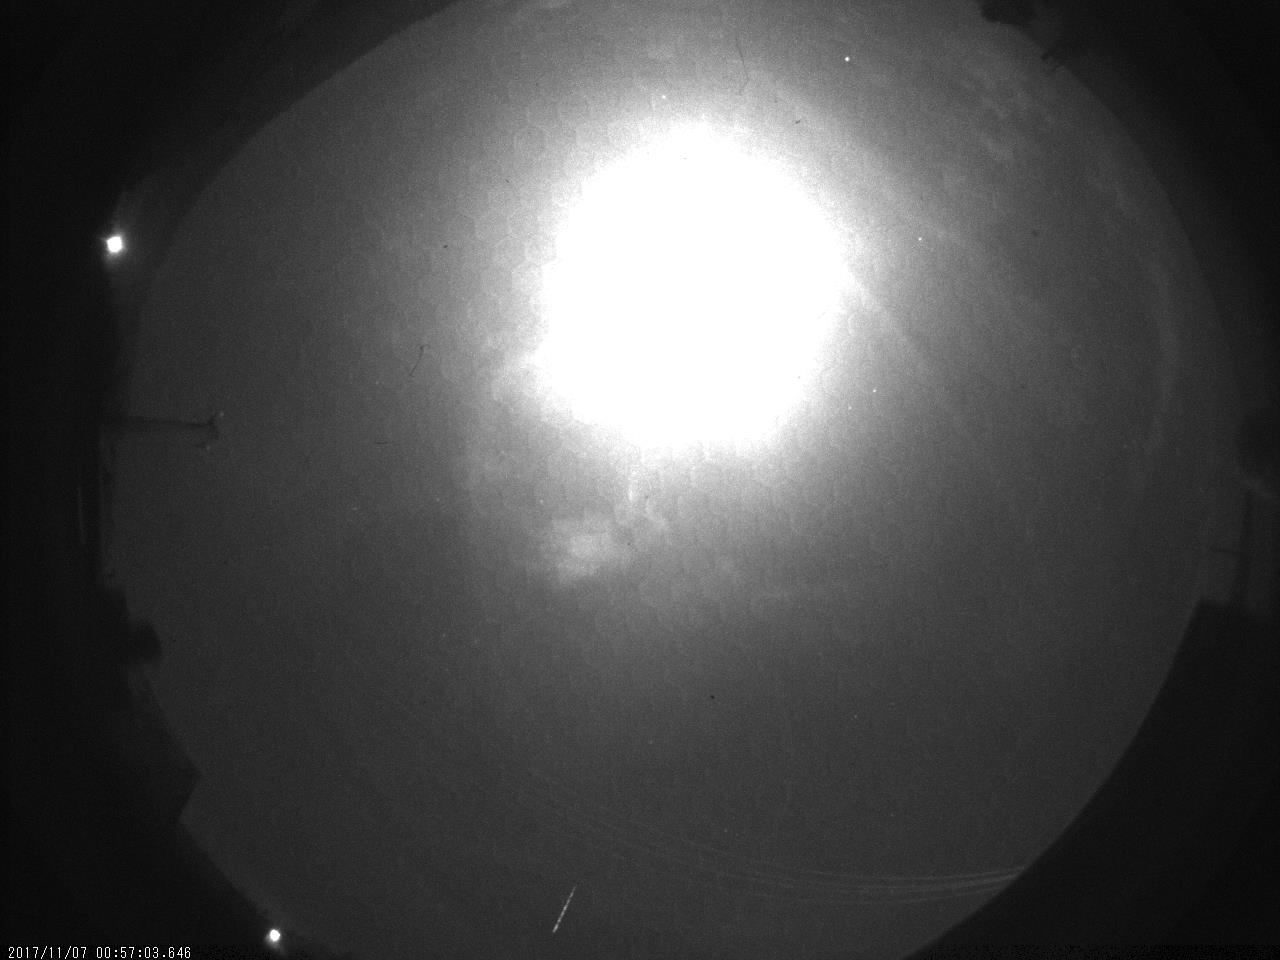meteor: (531, 871, 597, 939)
